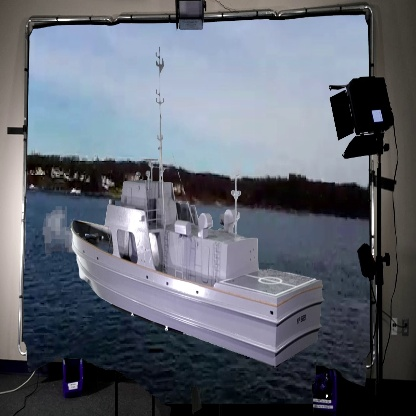YP689: (71, 50, 323, 367)
